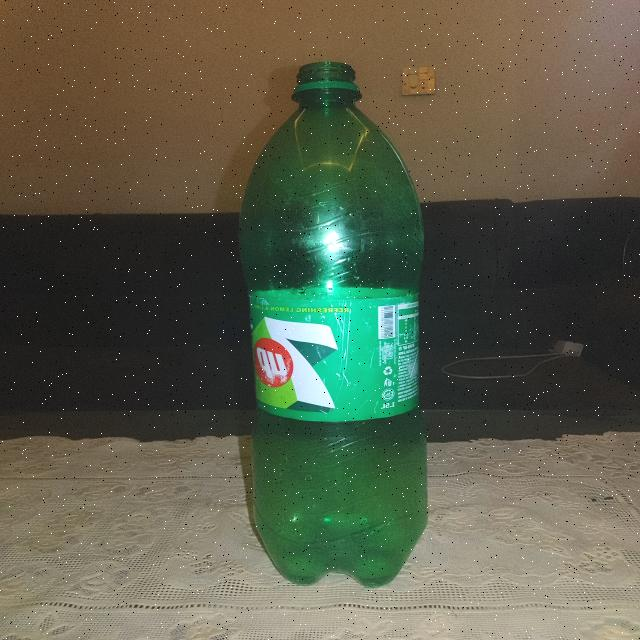bottle: (216, 47, 441, 590)
label: (247, 292, 423, 438)
